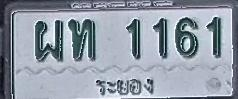1: (206, 16, 222, 58), (153, 17, 168, 59), (126, 18, 141, 60)
6: (175, 17, 198, 58)
A23: (68, 18, 96, 61)
A28: (34, 19, 64, 62)
RYG: (93, 76, 157, 99)
